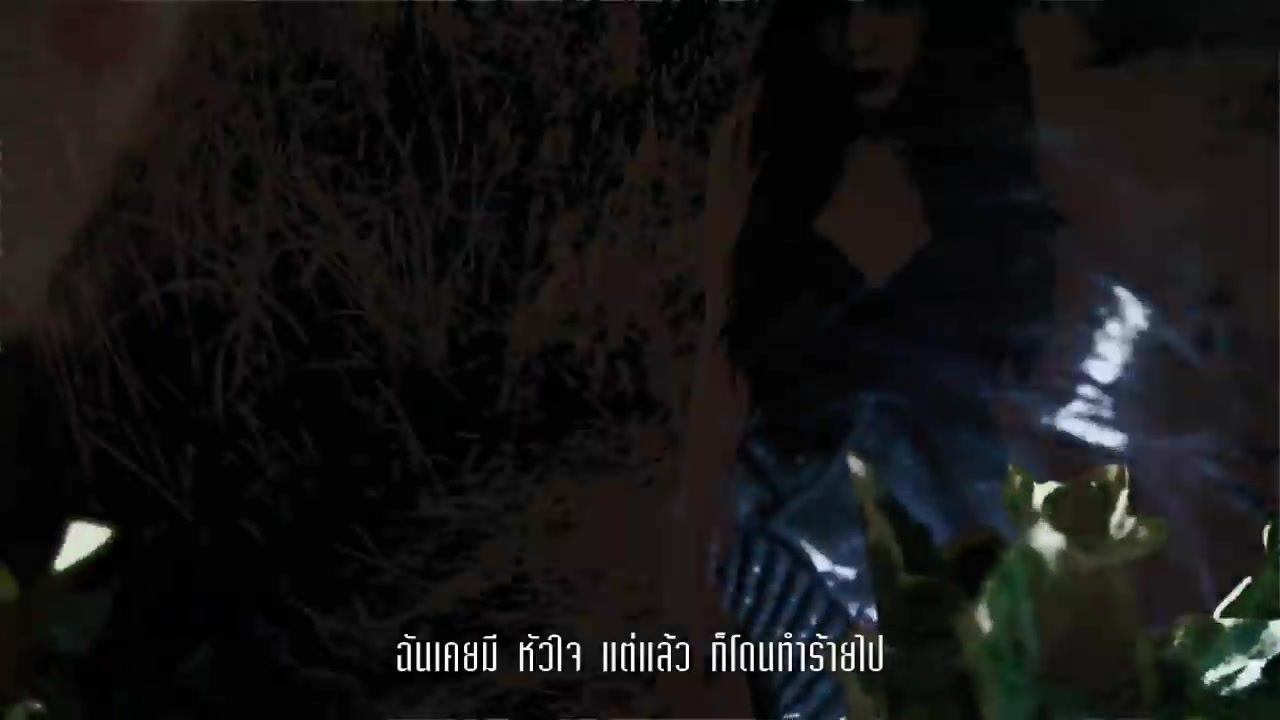text-label: (393, 628, 887, 673)
